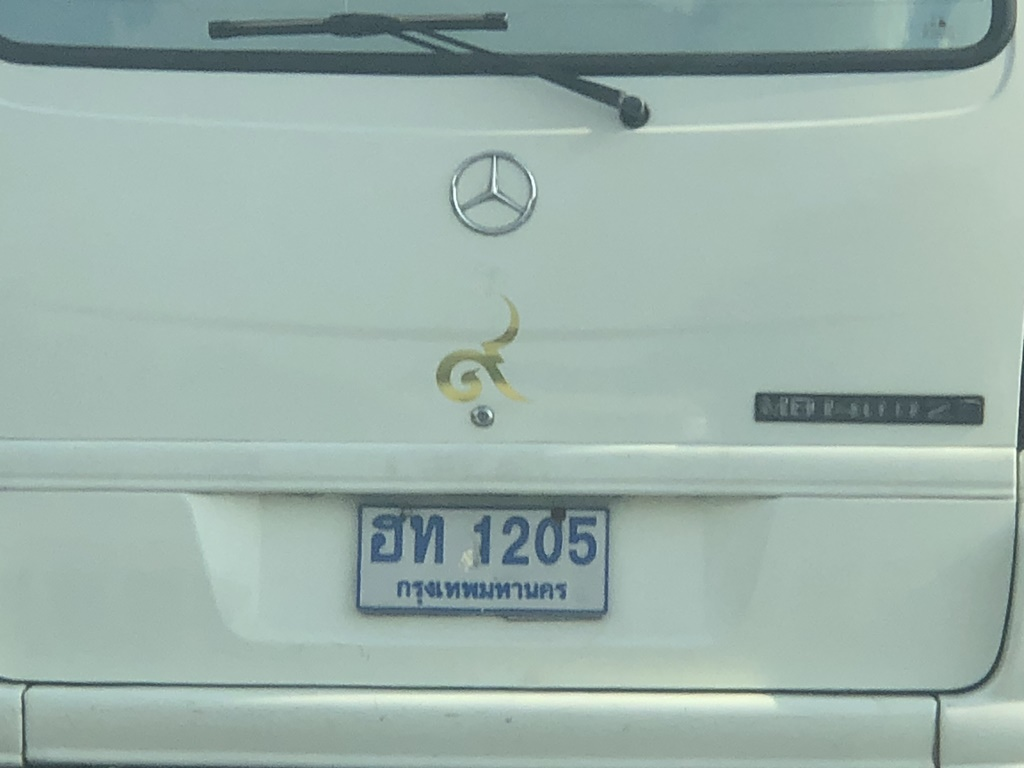five: (570, 507, 604, 573)
zero: (526, 507, 570, 568)
